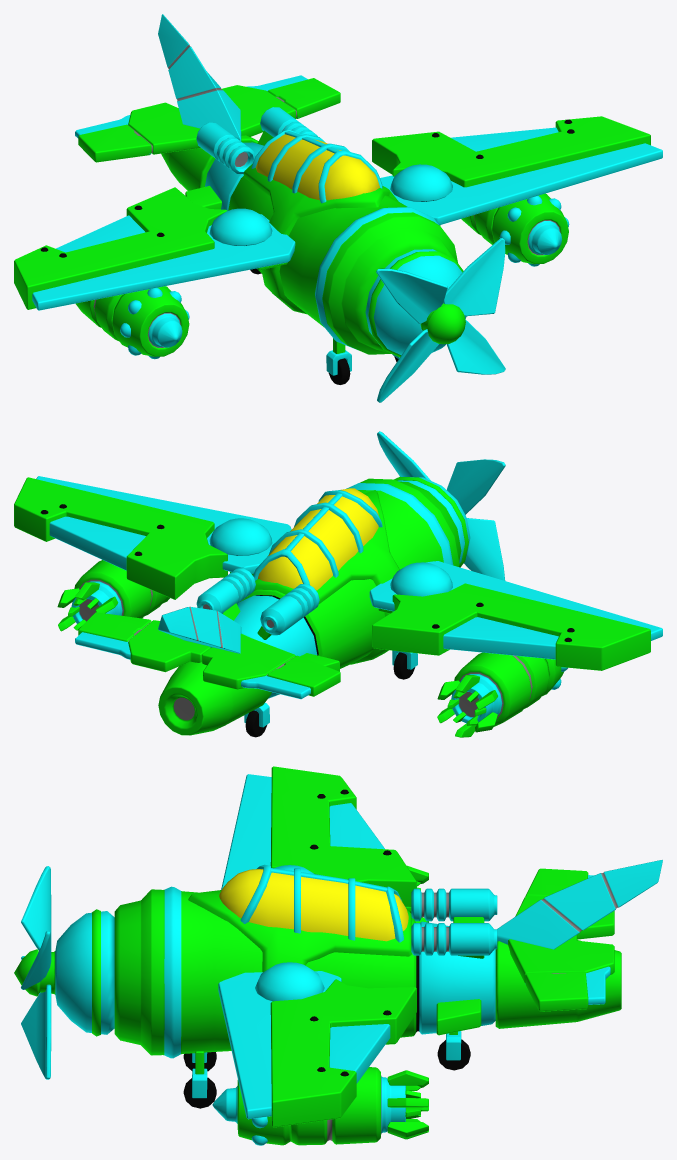
The picture shows the model from 3 angles, top to bottom: view 1: azimuth 30°, elevation 25°; view 2: azimuth 150°, elevation 25°; view 3: azimuth 270°, elevation 25°; orthographic projection. The views are drawn at different scales.
Visible parts, largest first — view 1: Body19_A, Wing19_R, Wing19_L, Fin19, Propeller19_B, Propeller19_A, Spurt19_R, Spurt19_L, Body19_C; view 2: Body19_A, Wing19_R, Wing19_L, Fin19, Spurt19_R, Propeller19_B, Spurt19_L, Propeller19_A, Body19_B, Body19_C; view 3: Body19_A, Wing19_L, Fin19, Wing19_R, Spurt19_L, Propeller19_A, Propeller19_B, Body19_D, Body19_B.
Boxes of the visible parts, x1,y1,x2,y2 form: Body19_A: (185,107,457,354); Wing19_R: (14,187,295,310); Wing19_L: (372,116,662,225); Fin19: (75,14,340,190); Propeller19_B: (376,238,505,402); Propeller19_A: (365,249,466,357); Spurt19_R: (76,286,189,359); Spurt19_L: (461,193,569,266); Body19_C: (326,338,351,384); Body19_A: (196,478,461,698); Wing19_R: (369,561,662,670); Wing19_L: (14,476,291,599); Fin19: (75,606,340,735); Spurt19_R: (437,652,567,737); Propeller19_B: (377,431,505,580); Spurt19_L: (57,560,169,631); Propeller19_A: (394,476,470,567); Body19_B: (244,702,269,737); Body19_C: (392,650,417,679); Body19_A: (114,864,497,1058); Wing19_L: (218,962,416,1127); Fin19: (495,860,662,1028); Wing19_R: (221,766,416,906); Spurt19_L: (212,1067,428,1145); Propeller19_A: (14,909,114,1036); Propeller19_B: (21,866,51,1079); Body19_D: (183,1051,216,1108); Body19_B: (437,1031,470,1070).
Size of the model in its own units: 22.29 by 7.08 by 18.15.
